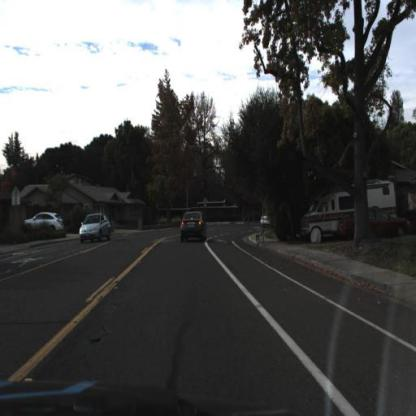car: (297, 177, 401, 245), (347, 210, 413, 240), (78, 214, 114, 243), (25, 211, 65, 234), (183, 212, 208, 243)
truck: (302, 183, 396, 245)
